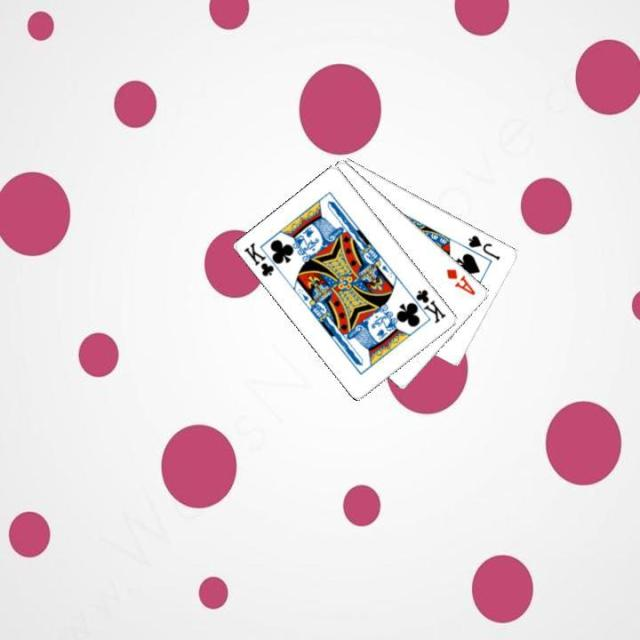AD: (443, 265, 477, 297)
JS: (464, 231, 502, 262)
KC: (404, 286, 448, 326), (240, 238, 284, 278)
